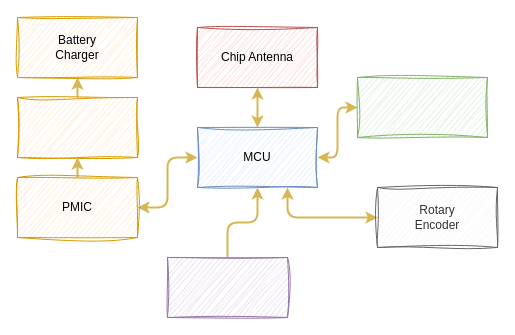
The diagram is 515 pixels wide and 335 high, and some of its shapes have lost their labels. Each missing label, with the box of its shape:
Battery: (16, 96, 138, 158)
Bio Sensor: (356, 76, 488, 138)
Proximity Sensor: (166, 256, 288, 318)
